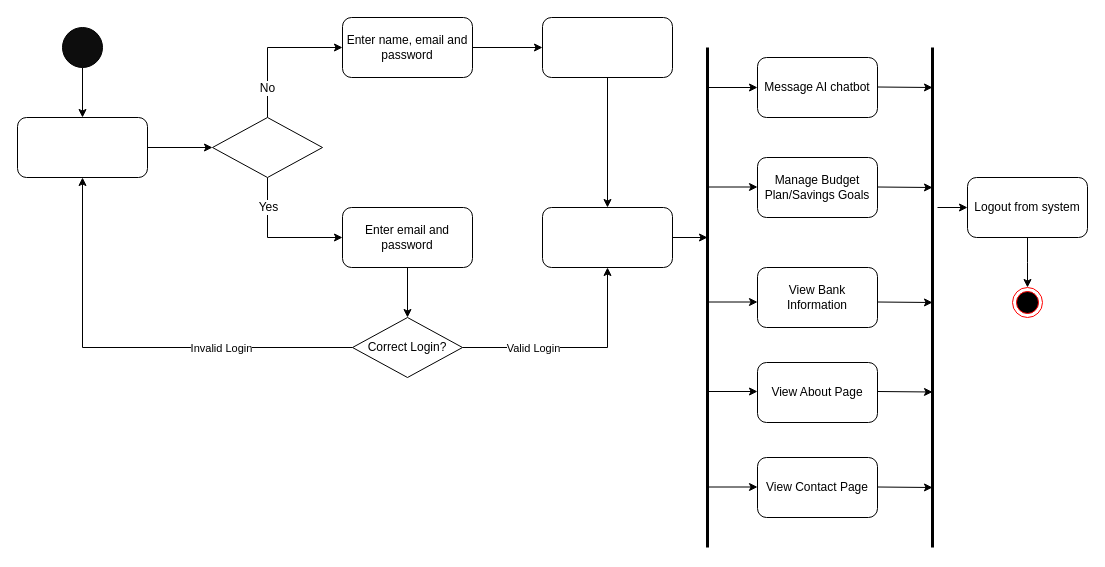
This 1105x567 diagram has some shape labels left out. The shapes that lost their labels are listed below. From the top down, each one's centre as x and y in pixels, then its label:
[607,47]: Save Account
[82,147]: Landing Page
[267,147]: Have Account?
[607,237]: User Dashboard
